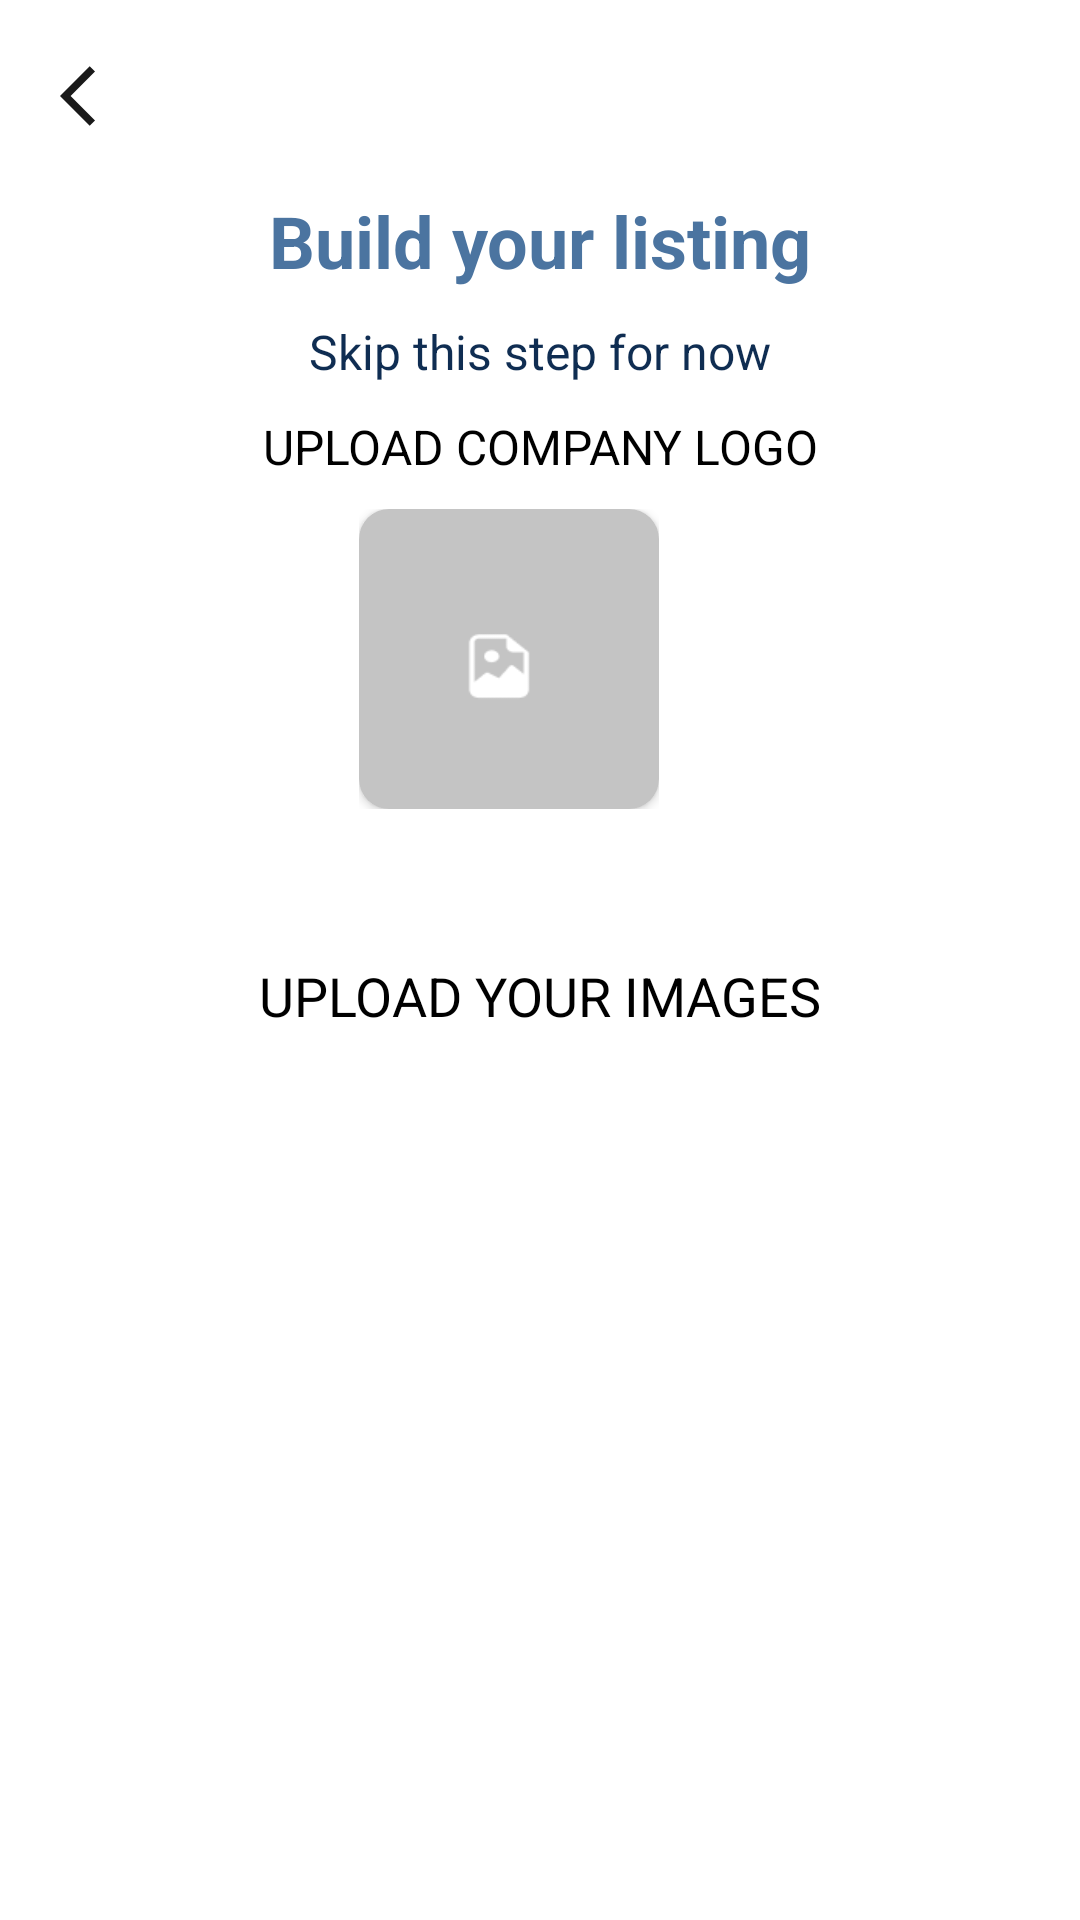

Screen size 1080x1920. Icon name, then its center in pixels as point (x, y):
emptygallery: point (509, 659)
imgback: point (77, 96)
